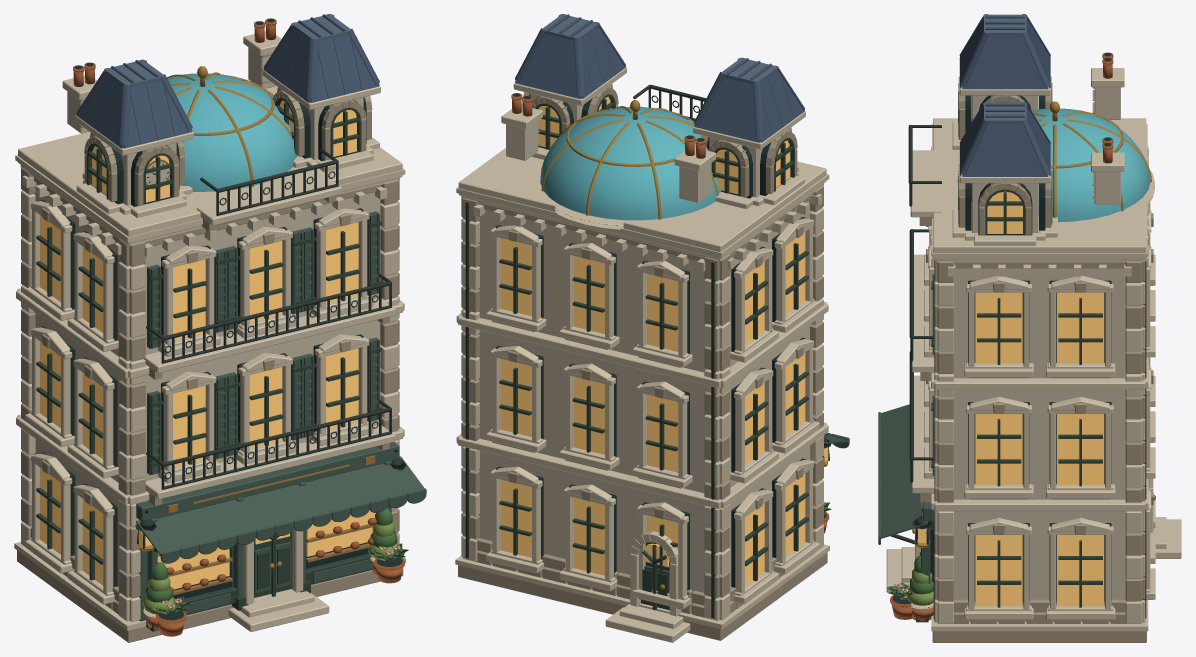
3 views of the same model, side by side, from view 1: azimuth 30°, elevation 25°; view 2: azimuth 150°, elevation 25°; view 3: azimuth 270°, elevation 25° (orthographic). The views are drawn at different scales.
Visible parts, largest first — view 1: classic_shop_3_geometry, classic_shop_3_geometry ceramic; view 2: classic_shop_3_geometry, classic_shop_3_geometry ceramic; view 3: classic_shop_3_geometry, classic_shop_3_geometry ceramic.
Part boxes in pixels (x1,y1,x2,y2): classic_shop_3_geometry: (14, 18, 426, 642); classic_shop_3_geometry ceramic: (76, 14, 379, 148); classic_shop_3_geometry: (455, 67, 849, 642); classic_shop_3_geometry ceramic: (515, 14, 804, 142); classic_shop_3_geometry: (878, 52, 1181, 642); classic_shop_3_geometry ceramic: (959, 14, 1050, 176).
Bounding box in the file's own units: 0.99 × 1.73 × 0.9269.
